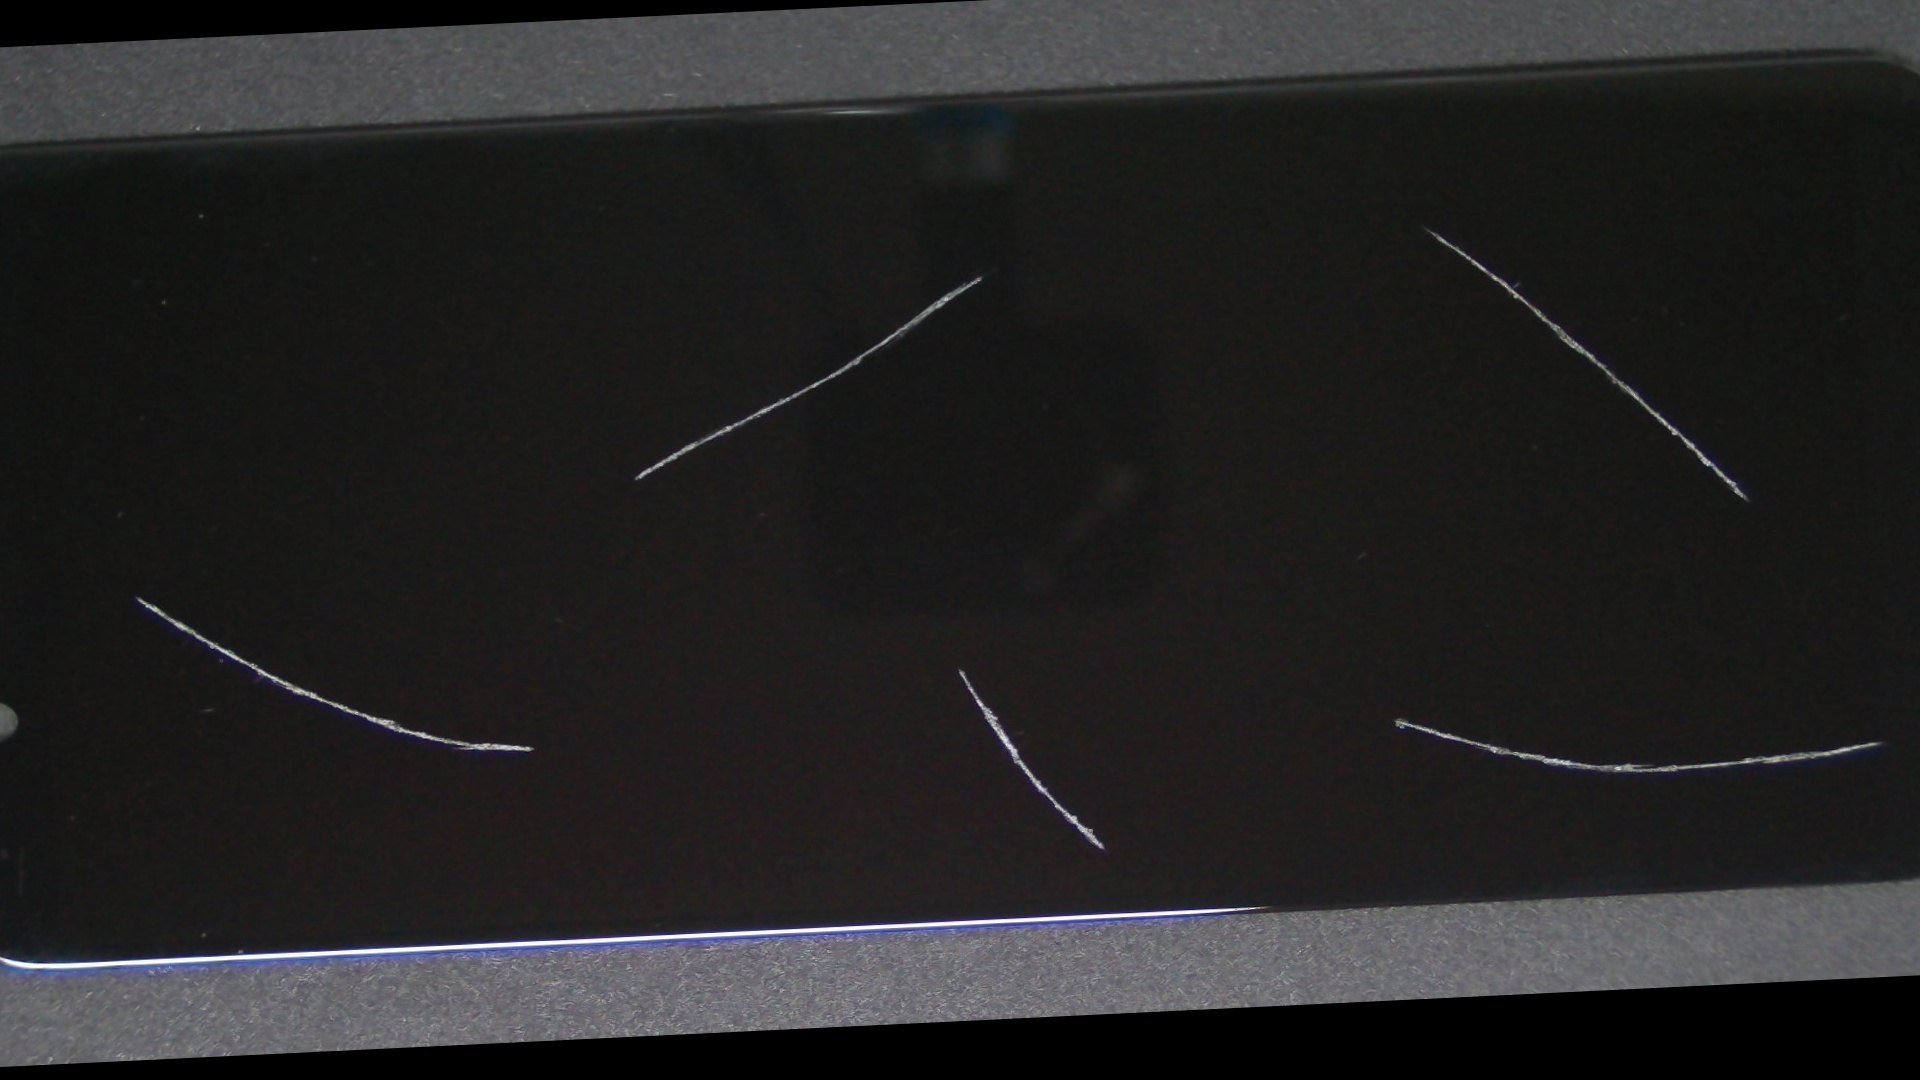oil: (632, 320, 1920, 1035), (410, 311, 1507, 1030), (641, 74, 1920, 386), (422, 111, 1540, 439), (0, 310, 274, 881)
